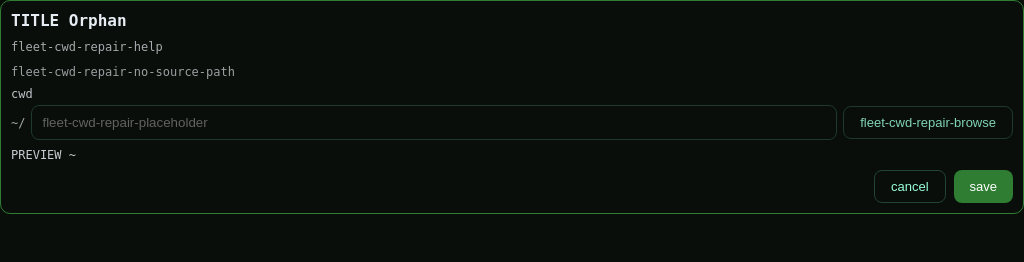
Test case: CwdRepairDialog — unportable-cwd + suggestion as explicit choice › unportable-cwd without suggestion shows the error and no suggestion button
Type "nope" into the field with placeholder "fleet-cwd-repair-placeholder".
click(434, 123); type("nope")  # box [32,105,837,140]
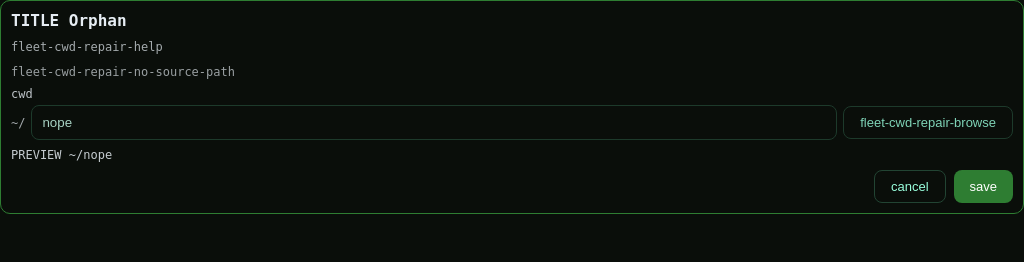
Click the button "save".
click(983, 187)  # box [954,170,1013,203]
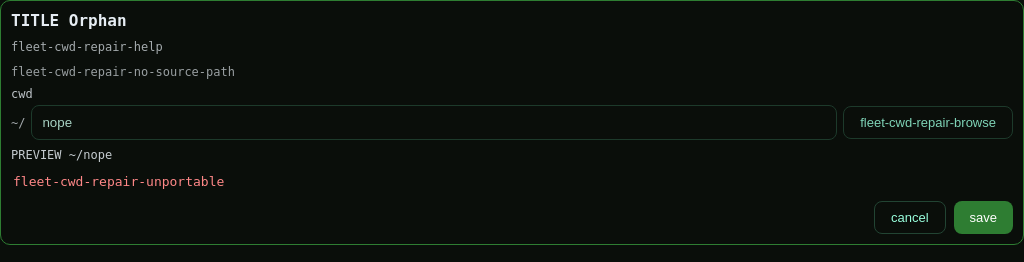
expect the text "fleet-cwd-repair-unportable" is shown: met, box [13,174,224,189]
